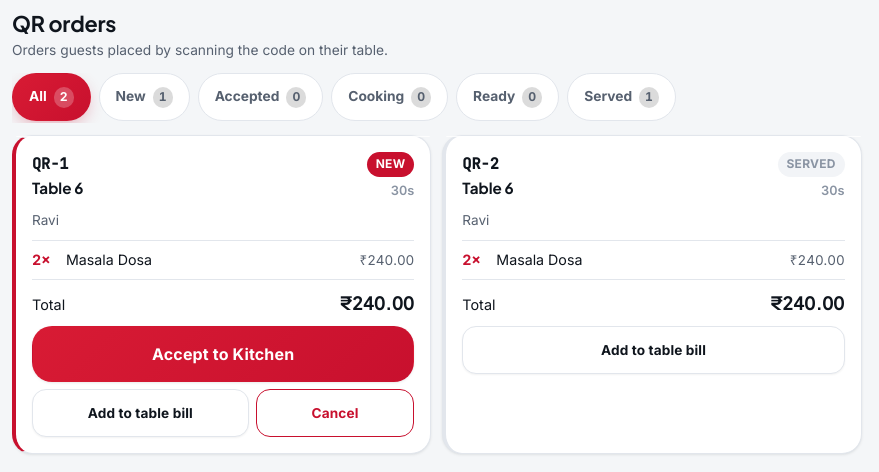
Test case: QR orders board › filtering by status narrows the board
Check: the text "QR-1" is shown, box left=32, top=153, right=68, bottom=174
What coordinates should you click on to do the following:
click the tab "Served 1"
I would click on:
 (622, 97)
Its box is left=567, top=73, right=676, bottom=121.
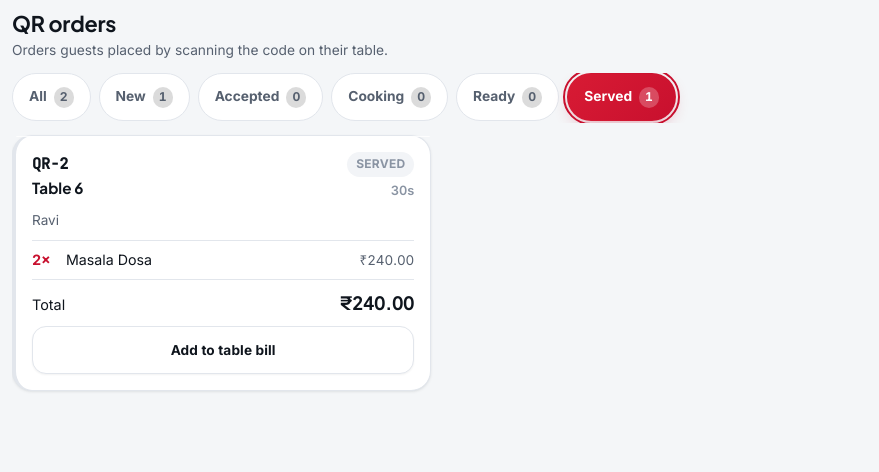
Check: the text "QR-2" is shown, box left=32, top=153, right=68, bottom=174
Check: the text "QR-1" is gone
